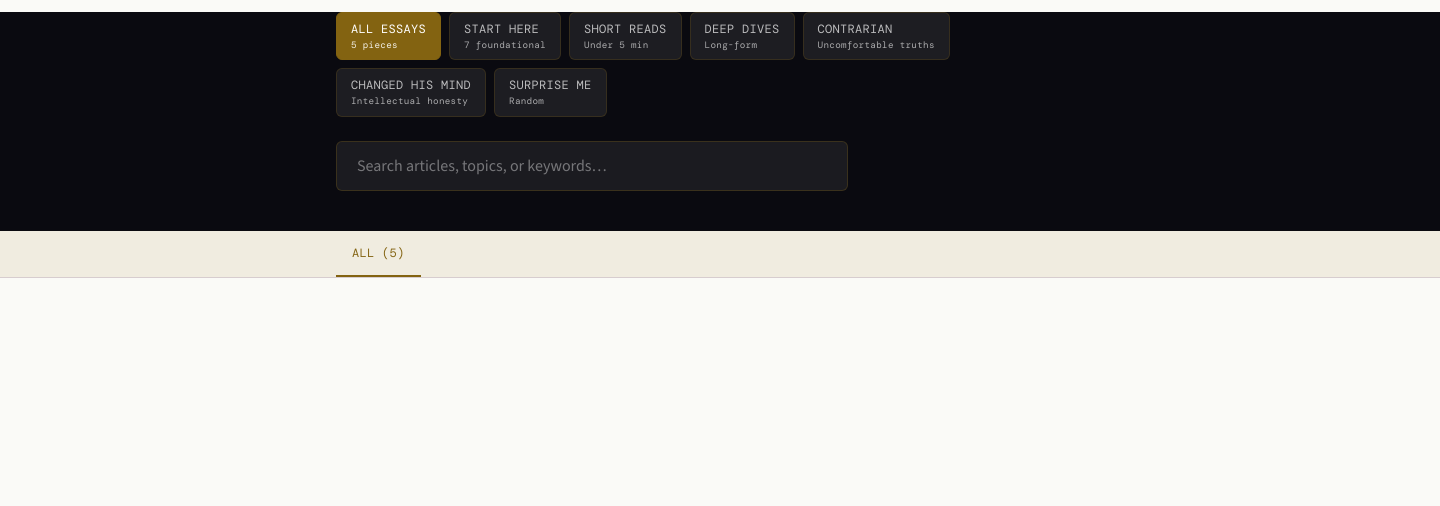
Test: ArticlesExplorer › the other discovery modes pick their essays from the curated slug lists › mode {} shows only its essay
Click the button "Contrarian Uncomfortable truths" at (876,36), box [803,12,950,60]
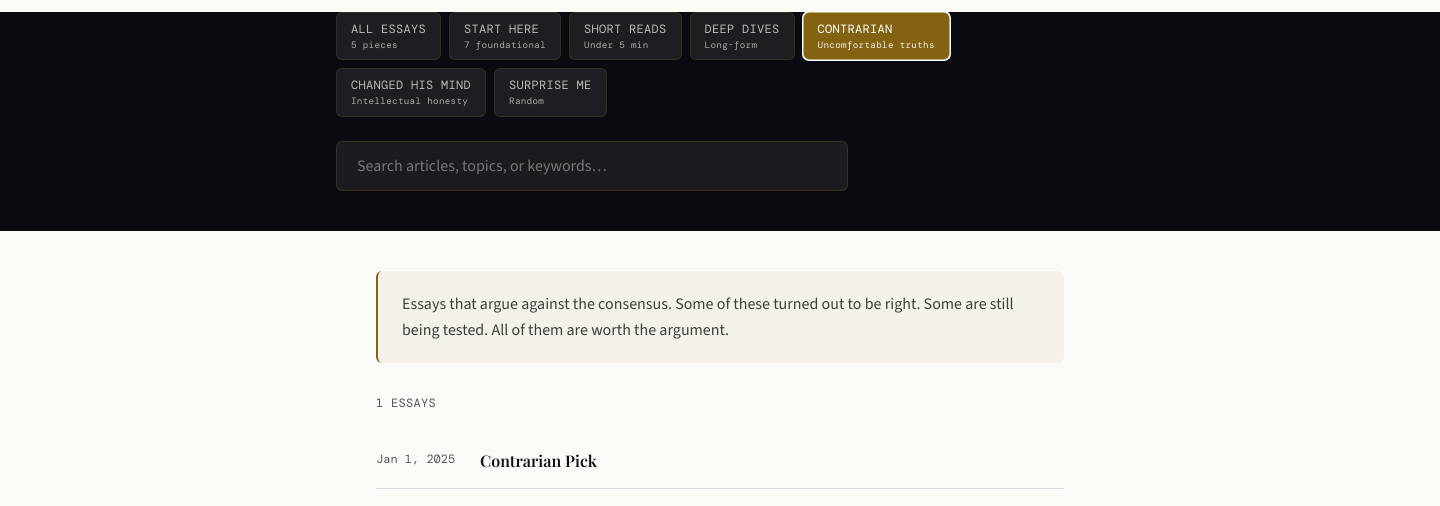
Now the text "1 essays" is shown, box [376,395,436,411]
Now the text "Essays that argue against the consensus" is shown, box [402,293,1014,340]
